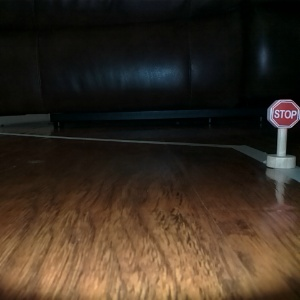stop sign: (264, 95, 300, 172)
